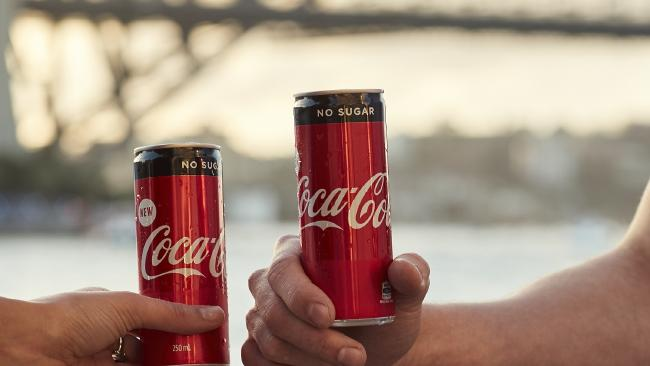coke: (293, 93, 399, 319), (136, 150, 229, 366)
